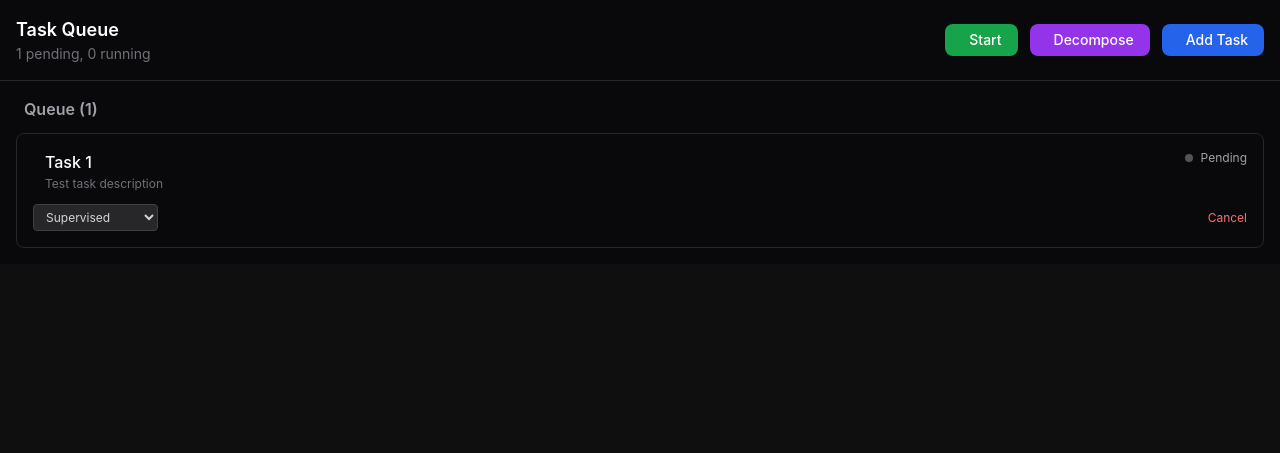
it: TaskQueuePanel › Task Details Panel › should display autonomy level details
The image size is (1280, 453).
Click the heading "Task 1": (68, 162) [45, 152, 92, 172]
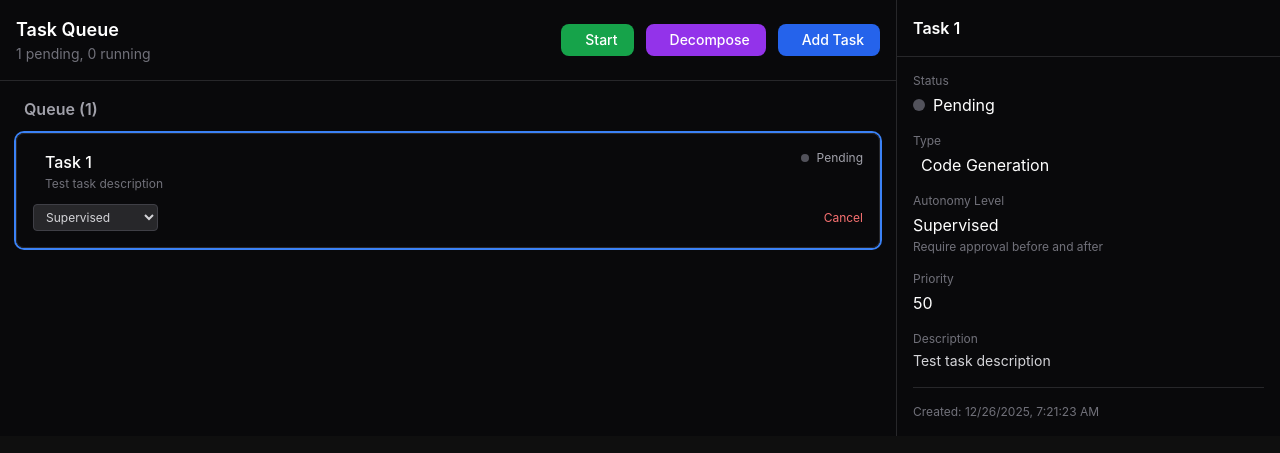
Expected: the text "Autonomy Level" is shown, [913, 193, 1004, 208]
